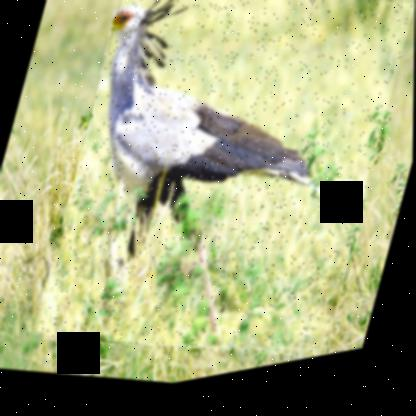Sagittarius serpentarius: (31, 0, 415, 410)
